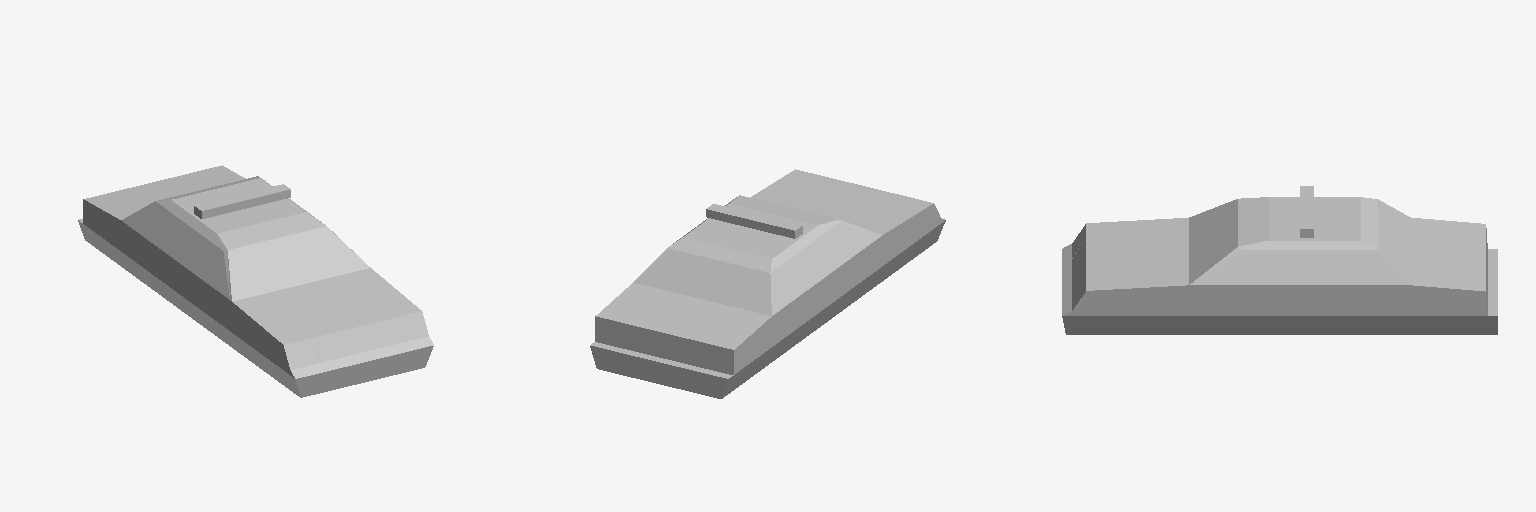
The model's file is copcar.obj.
3 views of the same model, side by side, from view 1: azimuth 30°, elevation 25°; view 2: azimuth 150°, elevation 25°; view 3: azimuth 270°, elevation 25° (orthographic).
Visible parts, largest first — view 1: instance_99_ID404, instance_99.008_ID454, instance_99.012_ID478, instance_99.006_ID442, instance_99.015_ID498, instance_99.011_ID472, instance_99.016_ID504, instance_99.001_ID410; view 2: instance_99_ID404, instance_99.003_ID422, instance_99.012_ID478, instance_99.002_ID416, instance_99.015_ID498, instance_99.011_ID472, instance_99.016_ID504; view 3: instance_99_ID404, instance_99.014_ID490, instance_99.013_ID484, instance_99.008_ID454, instance_99.009_ID460, instance_99.003_ID422.
Part boxes in pixels (left/top/right/bottom): instance_99_ID404: left=78, top=165, right=433, bottom=397; instance_99.008_ID454: left=229, top=227, right=366, bottom=300; instance_99.012_ID478: left=180, top=230, right=229, bottom=299; instance_99.006_ID442: left=311, top=323, right=396, bottom=361; instance_99.015_ID498: left=87, top=211, right=281, bottom=359; instance_99.011_ID472: left=136, top=207, right=187, bottom=258; instance_99.016_ID504: left=217, top=190, right=268, bottom=213; instance_99.001_ID410: left=309, top=362, right=419, bottom=393; instance_99_ID404: left=590, top=169, right=945, bottom=398; instance_99.003_ID422: left=637, top=249, right=767, bottom=314; instance_99.012_ID478: left=810, top=223, right=879, bottom=272; instance_99.002_ID416: left=609, top=325, right=720, bottom=365; instance_99.015_ID498: left=737, top=214, right=932, bottom=363; instance_99.011_ID472: left=779, top=249, right=823, bottom=305; instance_99.016_ID504: left=728, top=209, right=779, bottom=233; instance_99_ID404: left=1062, top=197, right=1497, bottom=334; instance_99.014_ID490: left=1090, top=301, right=1479, bottom=308; instance_99.013_ID484: left=1194, top=250, right=1299, bottom=284; instance_99.008_ID454: left=1189, top=200, right=1237, bottom=282; instance_99.009_ID460: left=1306, top=250, right=1380, bottom=284; instance_99.003_ID422: left=1378, top=201, right=1410, bottom=282.
Size of the model in its own units: 1.18 by 0.7901 by 3.21.